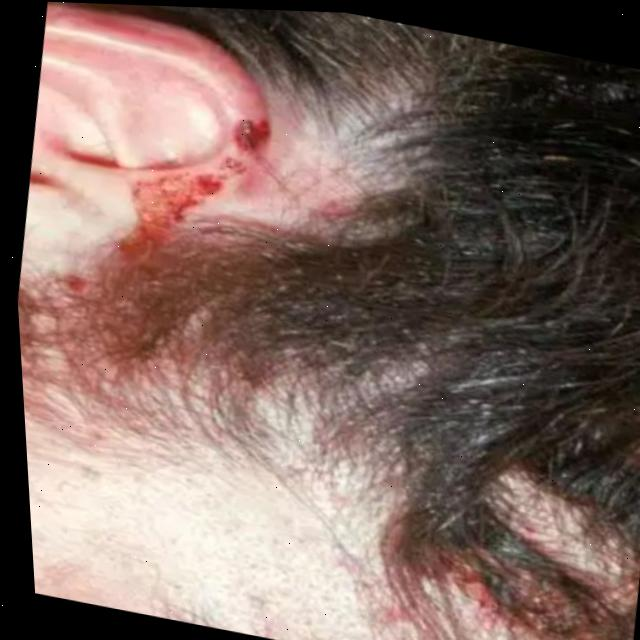Eczema: (21, 70, 297, 344)
